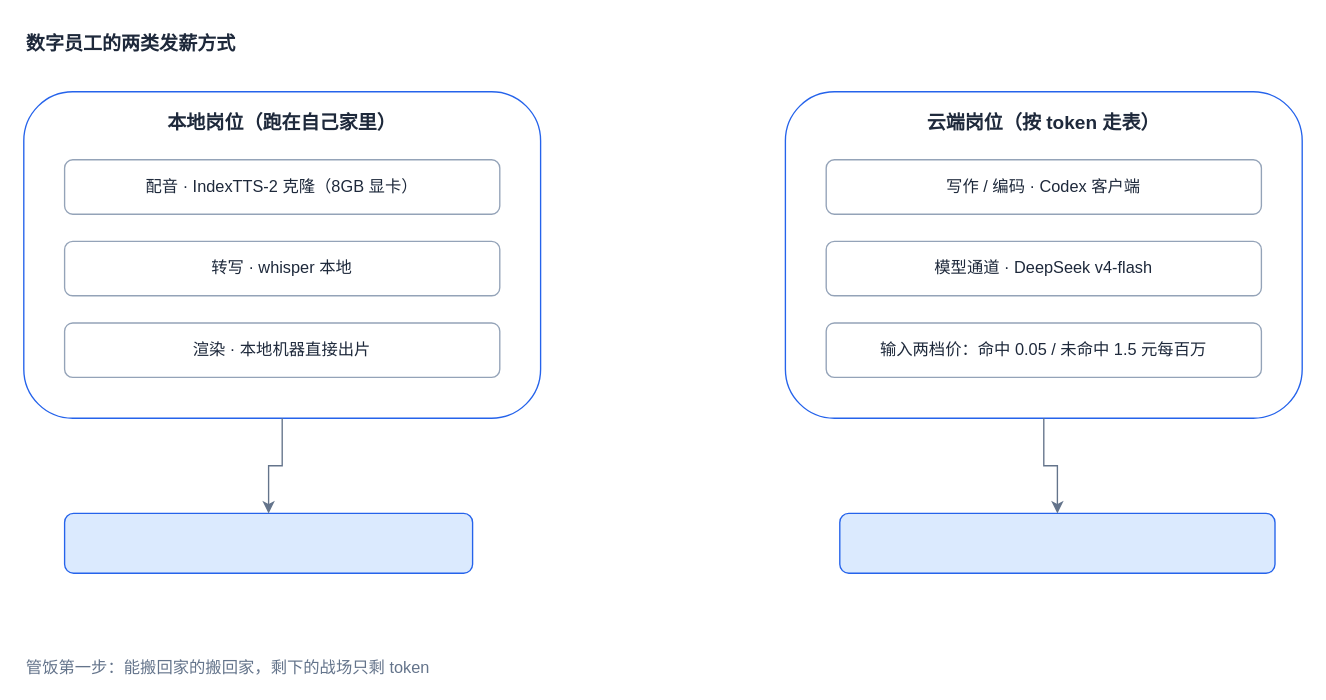
Some shapes in this 1326 by 700 pixel diagram are drawn without their labels. Here are the shapes that lost their labels. From the top down, the centre of each, then its label:
(268,542): 计费方式：电费（月成本不到一杯奶茶）
(1056,542): 计费方式：token（单会话可到 952 万）
